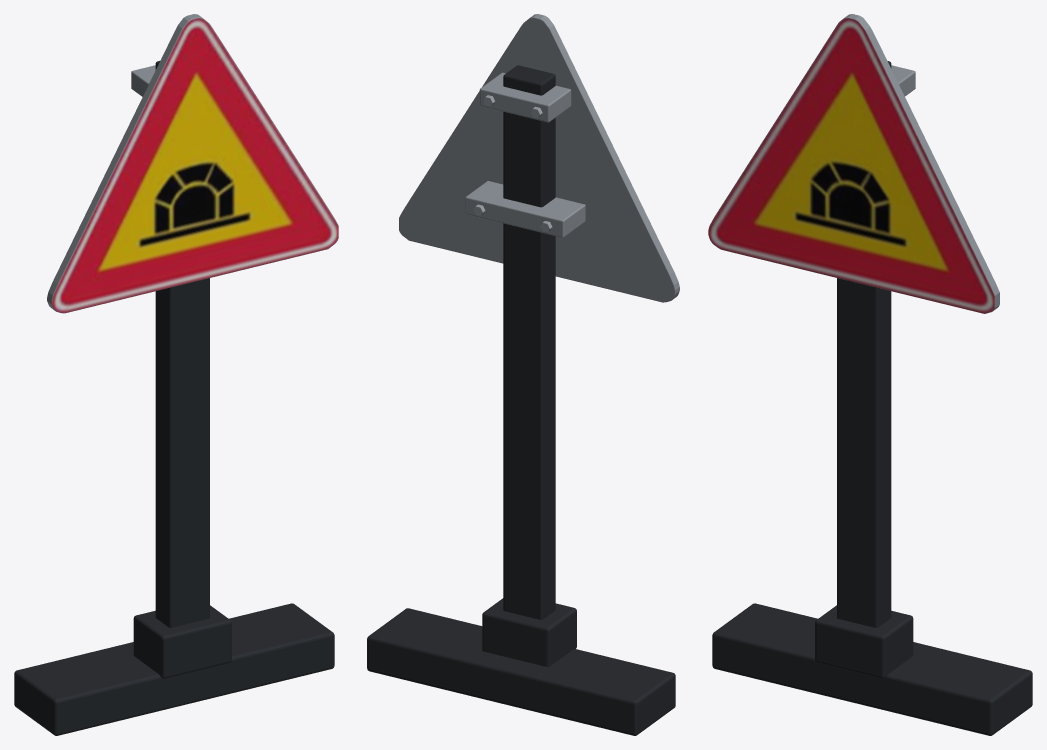
3 views of the same model, side by side, from view 1: azimuth 30°, elevation 25°; view 2: azimuth 150°, elevation 25°; view 3: azimuth 330°, elevation 25° (orthographic). The views are drawn at different scales.
Parts seen in each view (by area): view 1: g3, g0, g2; view 2: g0, g2; view 3: g3, g0, g2.
Part boxes in pixels (box(x1,y1,x2,y2)): g3: box(51, 18, 338, 313); g0: box(14, 61, 334, 735); g2: box(47, 14, 338, 313); g0: box(367, 65, 675, 735); g2: box(399, 14, 679, 302); g3: box(708, 18, 994, 313); g0: box(712, 61, 1032, 735); g2: box(708, 14, 999, 313).
Bounding box in the file's own units: 0.0983 × 0.0265 × 0.224.
Materials: 4 (1 with a texture image).
